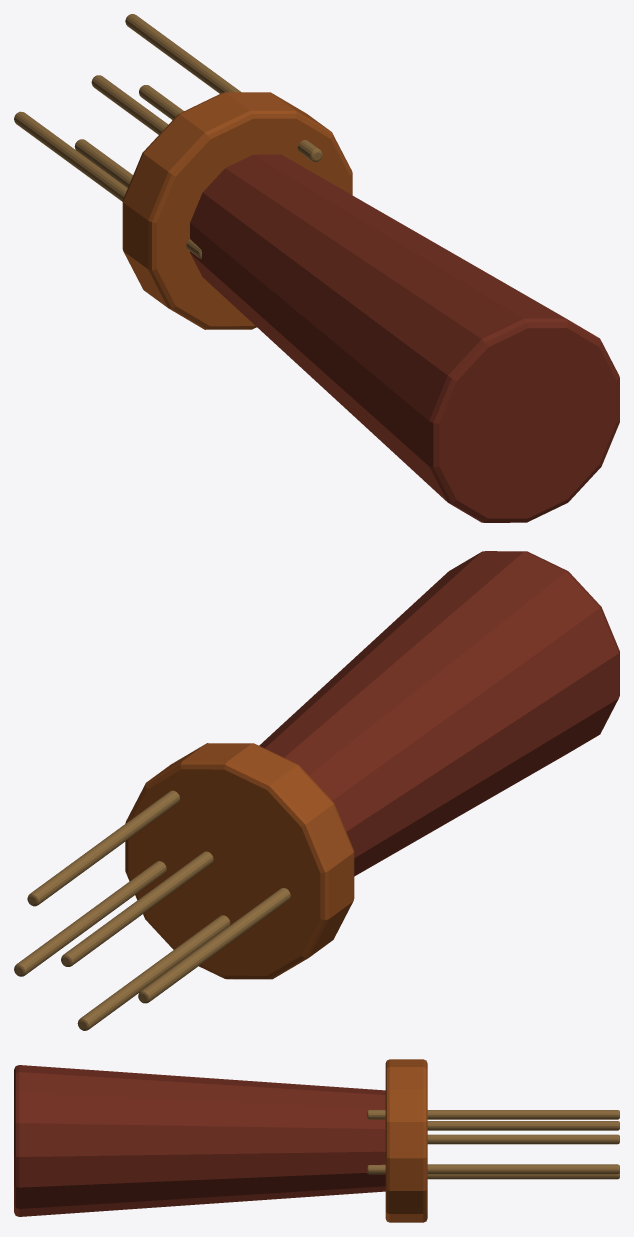
Rendered from quiver_full_LOD1.glb.
3 views of the same model, one above another, from view 1: azimuth 30°, elevation 25°; view 2: azimuth 150°, elevation 25°; view 3: azimuth 270°, elevation 25° (orthographic). The views are drawn at different scales.
Parts seen in each view (by area): view 1: LOD1_Body, LOD1_Rim, LOD1_Arrow.003, LOD1_Arrow, LOD1_Arrow.004, LOD1_Arrow.001; view 2: LOD1_Body, LOD1_Rim, LOD1_Arrow, LOD1_Arrow.003, LOD1_Arrow.004, LOD1_Arrow.002, LOD1_Arrow.001; view 3: LOD1_Body, LOD1_Rim, LOD1_Arrow.002, LOD1_Arrow.003, LOD1_Arrow.004, LOD1_Arrow, LOD1_Arrow.001.
Part boxes in pixels (<box>): LOD1_Body: <box>190,154,619,522</box>; LOD1_Rim: <box>122,92,352,329</box>; LOD1_Arrow.003: <box>125,14,322,161</box>; LOD1_Arrow: <box>14,111,201,258</box>; LOD1_Arrow.004: <box>91,75,168,134</box>; LOD1_Arrow.001: <box>74,139,132,187</box>; LOD1_Body: <box>259,551,619,876</box>; LOD1_Rim: <box>125,743,354,979</box>; LOD1_Arrow: <box>138,888,290,1003</box>; LOD1_Arrow.003: <box>27,790,179,906</box>; LOD1_Arrow.004: <box>61,851,213,966</box>; LOD1_Arrow.002: <box>14,861,166,976</box>; LOD1_Arrow.001: <box>77,915,230,1030</box>; LOD1_Body: <box>14,1065,385,1216</box>; LOD1_Rim: <box>385,1059,427,1222</box>; LOD1_Arrow.002: <box>367,1164,619,1174</box>; LOD1_Arrow.003: <box>367,1110,619,1119</box>; LOD1_Arrow.004: <box>427,1134,619,1144</box>; LOD1_Arrow: <box>427,1121,619,1130</box>; LOD1_Arrow.001: <box>427,1173,619,1179</box>.
Bounding box in the file's own units: 0.3022 × 0.31 × 1.15.
